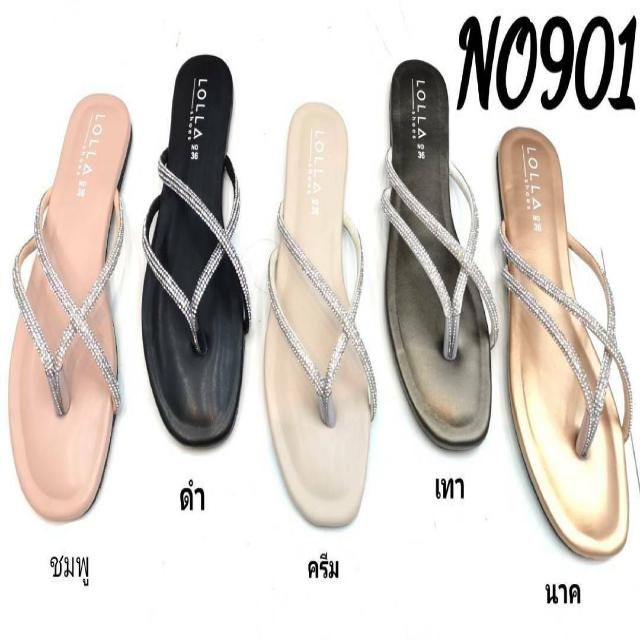black: (145, 55, 249, 446)
cream: (267, 104, 371, 529)
grey: (380, 56, 494, 451)
nak: (492, 128, 629, 563)
pink: (8, 95, 132, 521)
